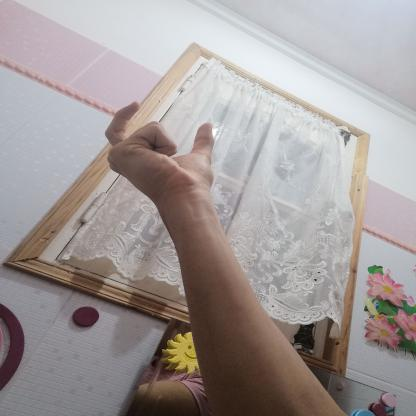NOON: (90, 89, 231, 216)
